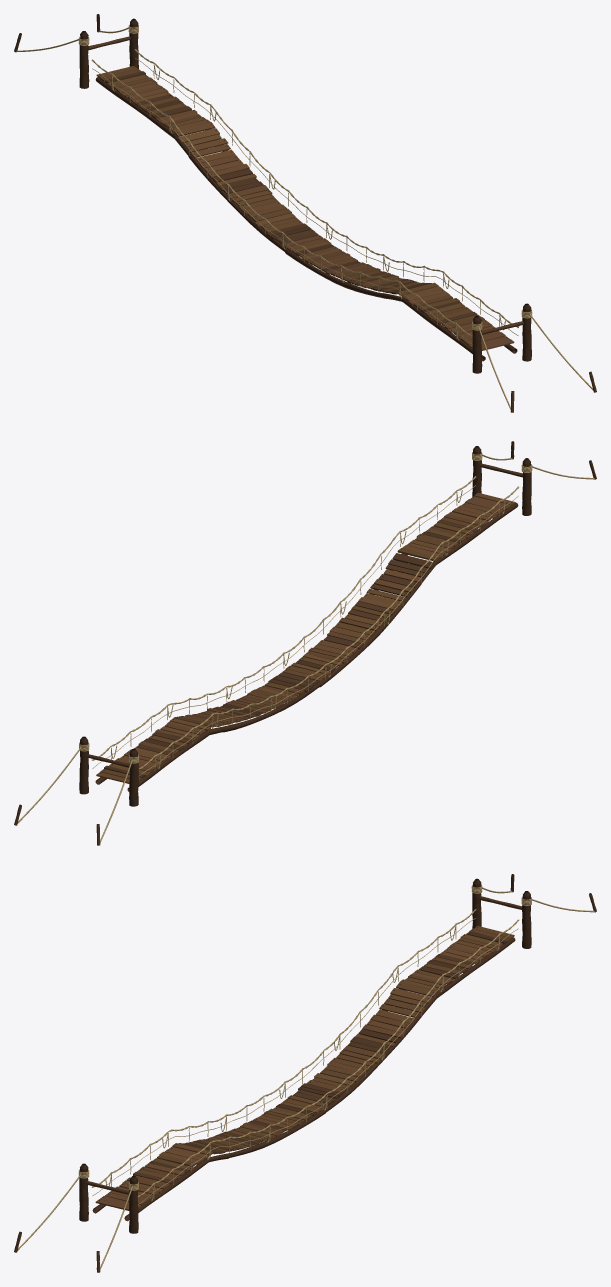
The model's file is arch_dm_bridge.d72414fdde.glb.
The picture shows the model from 3 angles, top to bottom: view 1: azimuth 30°, elevation 25°; view 2: azimuth 150°, elevation 25°; view 3: azimuth 330°, elevation 25°; orthographic projection.
Parts seen in each view (by area): view 1: dm_bridge; view 2: dm_bridge; view 3: dm_bridge.
Part boxes in pixels (<box>): dm_bridge: <box>14,14,596,412</box>; dm_bridge: <box>14,441,596,845</box>; dm_bridge: <box>14,874,596,1272</box>.
Bounding box in the file's own units: 6.2 × 5.88 × 62.4.
